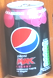pepsi: (4, 1, 52, 77)
